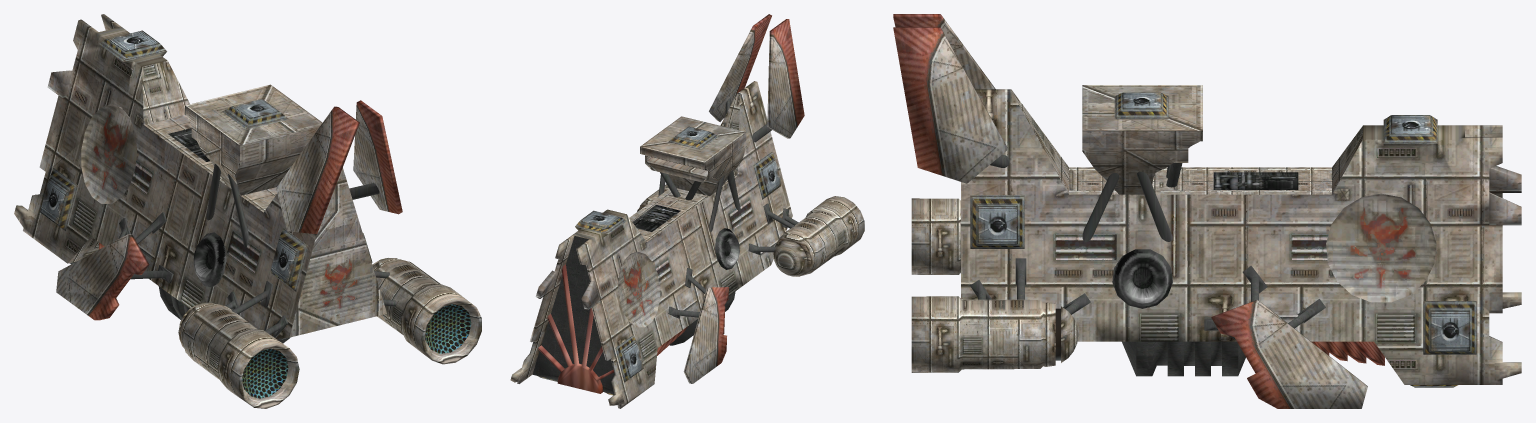
File: _PI_TRANSPORT.fbx
3 views of the same model, side by side, from view 1: azimuth 30°, elevation 25°; view 2: azimuth 150°, elevation 25°; view 3: azimuth 270°, elevation 25° (orthographic). The views are drawn at different scales.
Visible parts, largest first — view 1: Group24, Group4, Group1, Group26, Group2, Group15, Group17, Group3, Group23, Group18, Group12, Group21 (+7 smaller); view 2: Group24, Group1, Group4, Group22, Group2, Group15, Group8, Group23, Group17, Group18, Group12, Group25 (+6 smaller); view 3: Group24, Group4, Group1, Group15, Group2, Group19, Group25, Group17, Group23, Group7, Group12, Group13 (+5 smaller).
Boxes of the visible parts, left/top/right/bottom form: Group24: left=14, top=14, right=316, bottom=339; Group4: left=178, top=258, right=481, bottom=408; Group1: left=276, top=100, right=402, bottom=233; Group26: left=289, top=167, right=386, bottom=337; Group2: left=56, top=234, right=149, bottom=320; Group15: left=81, top=104, right=137, bottom=204; Group17: left=185, top=84, right=322, bottom=145; Group3: left=242, top=304, right=471, bottom=398; Group23: left=118, top=164, right=396, bottom=337; Group18: left=235, top=126, right=319, bottom=195; Group12: left=99, top=30, right=288, bottom=129; Group21: left=142, top=60, right=189, bottom=124; Group24: left=510, top=81, right=792, bottom=408; Group1: left=709, top=14, right=804, bottom=138; Group4: left=637, top=184, right=864, bottom=276; Group22: left=532, top=236, right=614, bottom=394; Group2: left=683, top=287, right=728, bottom=383; Group15: left=618, top=251, right=660, bottom=327; Group8: left=538, top=264, right=613, bottom=393; Group23: left=658, top=98, right=798, bottom=318; Group17: left=640, top=116, right=745, bottom=162; Group18: left=640, top=147, right=718, bottom=196; Group12: left=575, top=126, right=718, bottom=234; Group25: left=629, top=175, right=736, bottom=241; Group24: left=961, top=89, right=1521, bottom=384; Group4: left=911, top=198, right=1078, bottom=372; Group1: left=893, top=14, right=1008, bottom=183; Group15: left=1326, top=193, right=1436, bottom=302; Group2: left=1211, top=299, right=1367, bottom=408; Group19: left=1082, top=131, right=1202, bottom=194; Group25: left=1069, top=167, right=1331, bottom=194; Group17: left=1082, top=85, right=1202, bottom=130; Group23: left=970, top=154, right=1325, bottom=339; Group7: left=1136, top=341, right=1238, bottom=376; Group12: left=1114, top=92, right=1437, bottom=143; Group13: left=970, top=195, right=1024, bottom=248.
Bounding box in the file's own units: 37.12 × 46.38 × 75.61.
